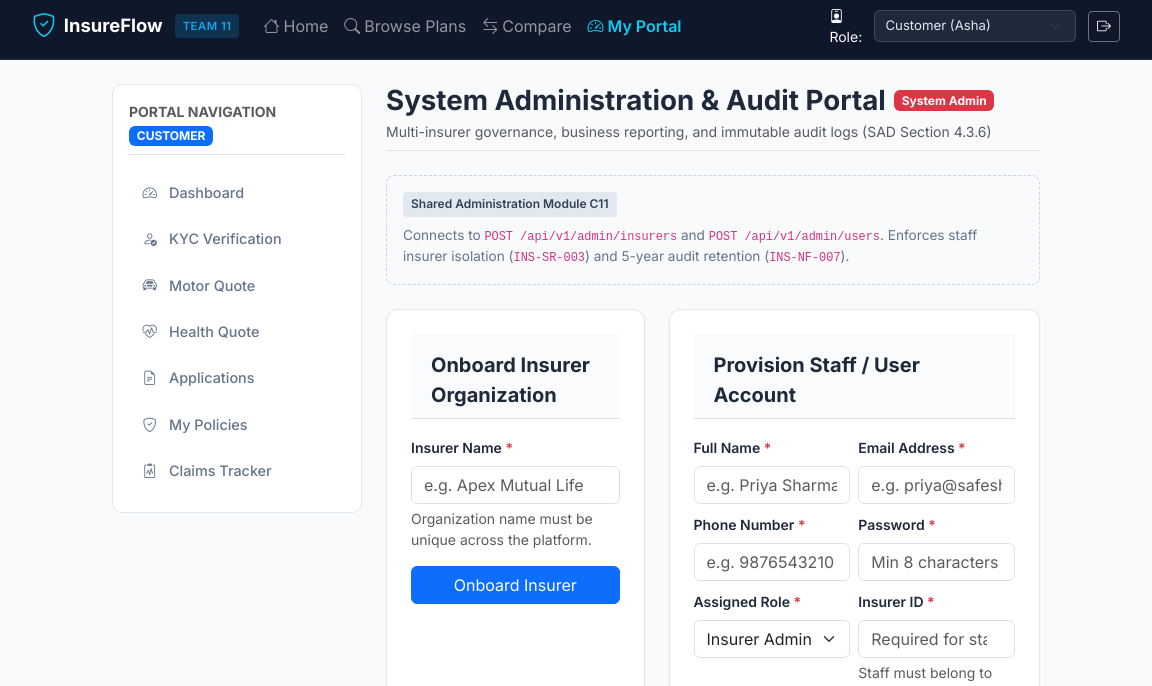
Scenario: SystemAdminDashboardView (P2-11 / SAD §4.3.6 / INS-SR-003) › successfully creates staff user with insurer ID
Type "Priya Sharma" into the field labelled "Full Name *" at (772, 485), box left=694, top=466, right=850, bottom=504
Type "priya@safeshield.test" into the field labelled "Email Address *" at (937, 485), box left=858, top=466, right=1015, bottom=504
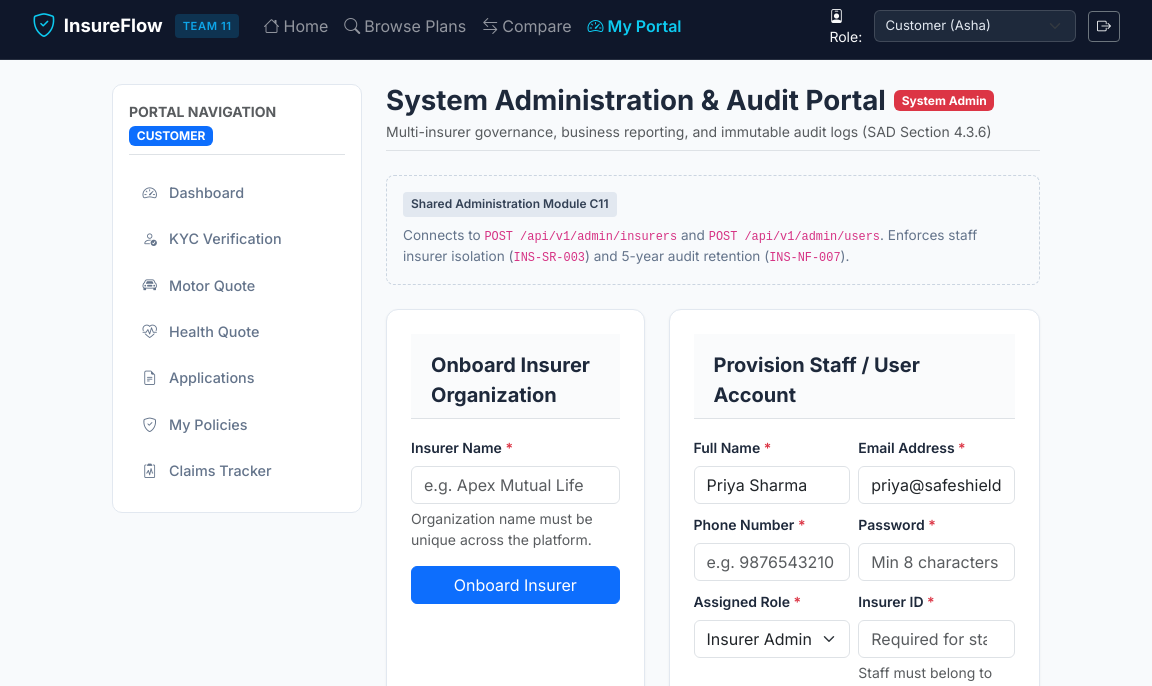
Type "9876543210" into the field labelled "Phone Number *" at (772, 562), box left=694, top=543, right=850, bottom=581
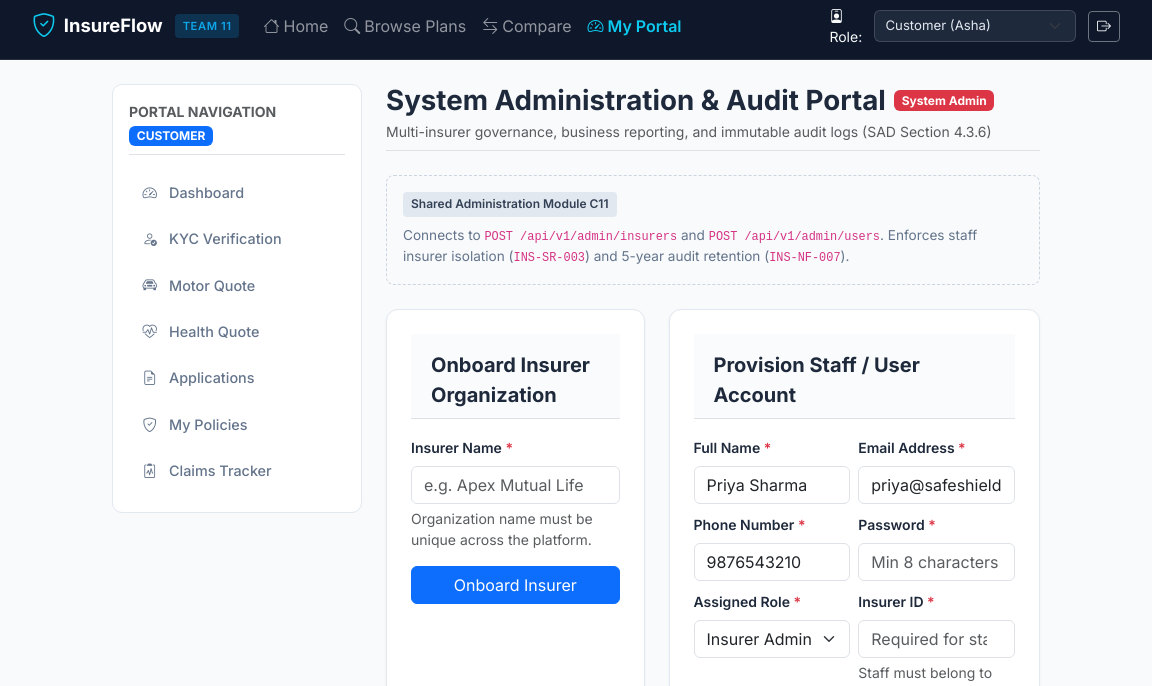
Type "SecurePass123!" into the password field labelled "Password *" at (937, 562), box left=858, top=543, right=1015, bottom=581
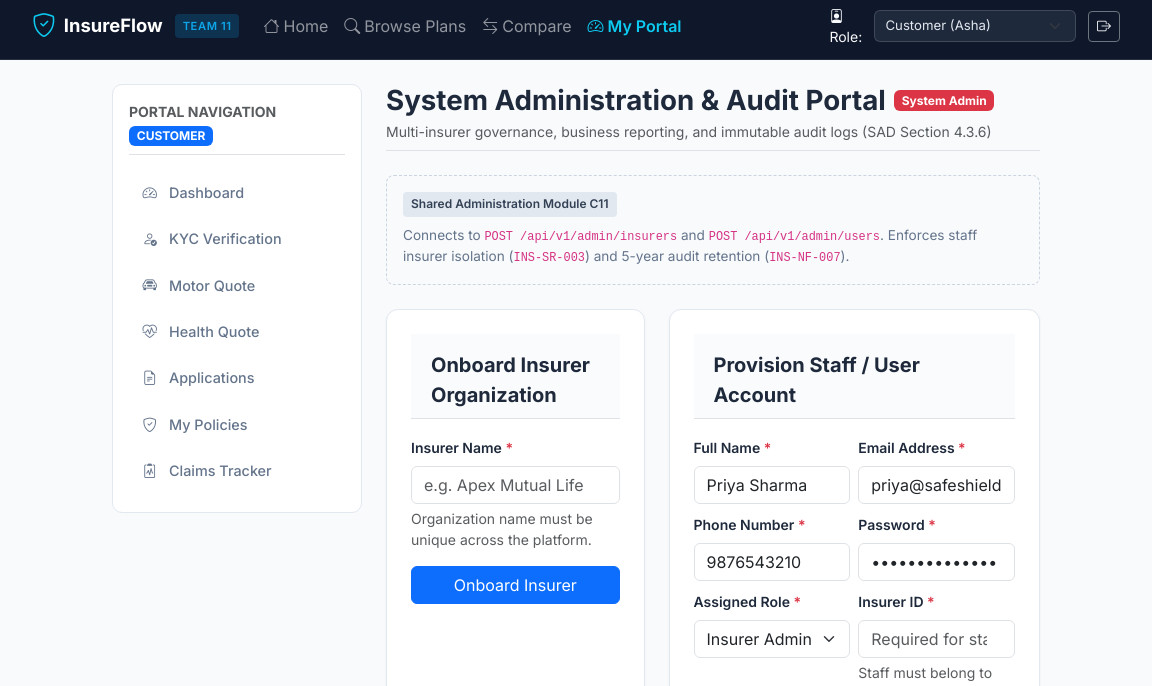
Select "Underwriter" in the dropdown labelled "Assigned Role *" at (772, 639), box left=694, top=620, right=850, bottom=658
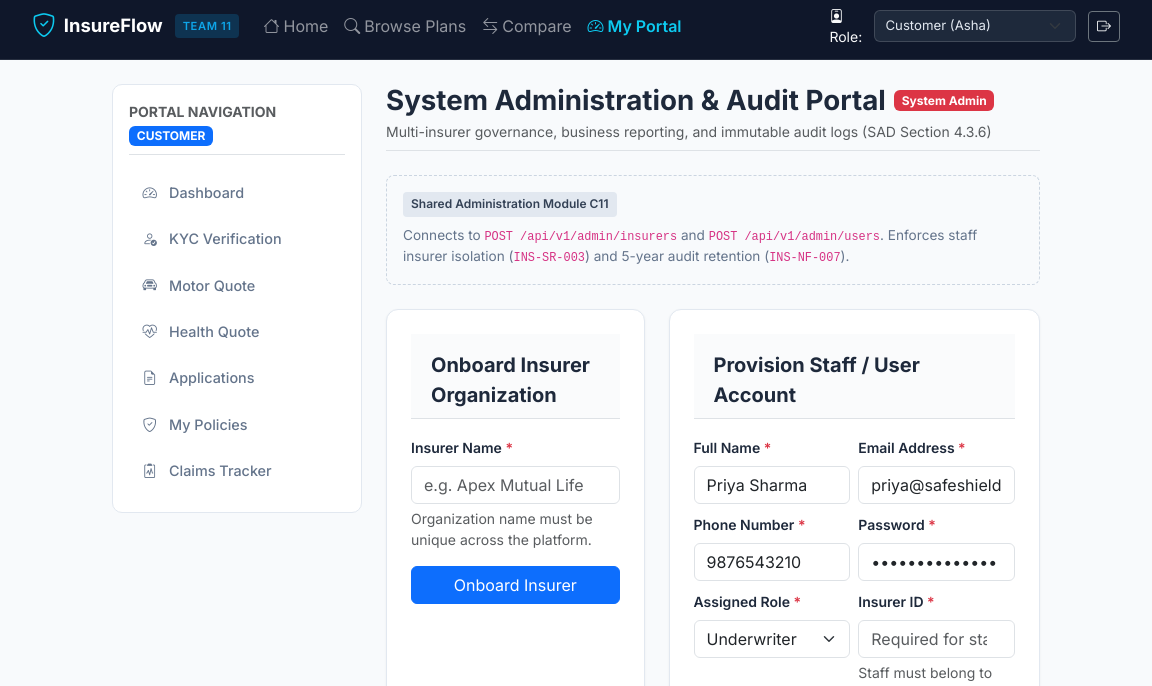
Type "1" into the number field labelled "Insurer ID *" at (937, 639), box left=858, top=620, right=1015, bottom=658
(page scrolled)
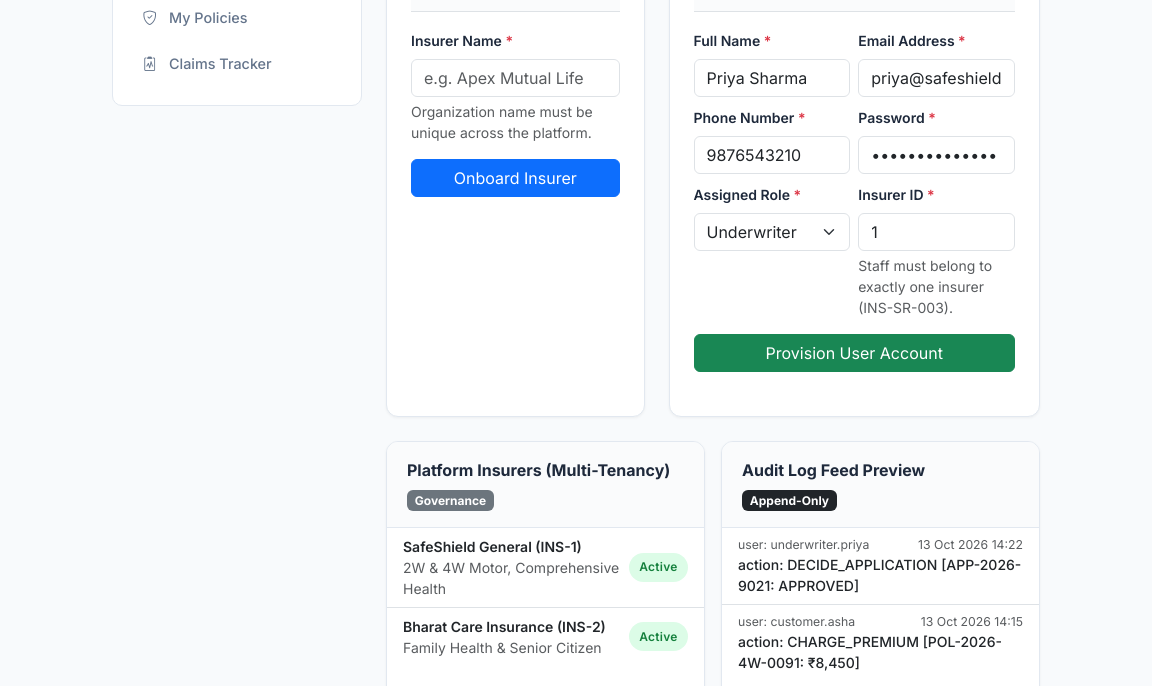
Click the button "Provision User Account" at (854, 353), box left=694, top=334, right=1015, bottom=372
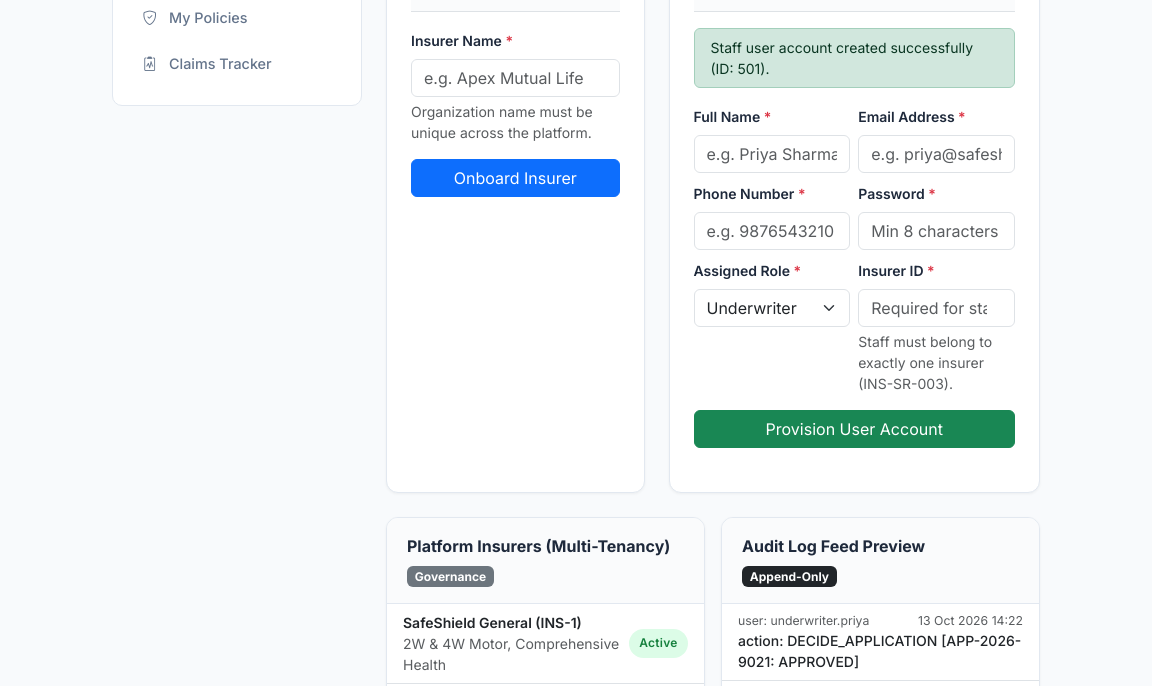
Expected: the text "Staff user account created successfully (ID: 501)." is shown, left=694, top=28, right=1015, bottom=88
